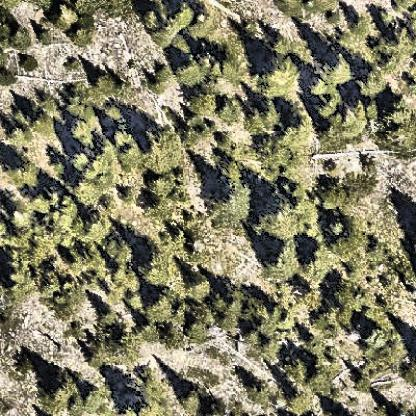tree-top: (259, 191, 316, 243), (251, 50, 302, 104), (356, 323, 410, 373), (139, 122, 188, 176), (264, 238, 307, 284), (153, 225, 194, 270), (171, 52, 214, 91), (316, 98, 352, 144), (141, 288, 180, 330), (241, 97, 284, 135), (317, 52, 357, 92), (189, 5, 226, 46), (38, 370, 76, 409), (316, 178, 355, 214), (353, 63, 390, 100), (211, 185, 249, 220), (333, 283, 368, 320), (80, 210, 116, 245), (82, 379, 116, 416), (210, 295, 244, 330), (278, 353, 312, 387), (65, 113, 100, 146), (146, 169, 182, 201), (142, 252, 174, 287), (246, 326, 278, 361), (312, 303, 340, 343), (185, 86, 219, 118), (380, 106, 408, 143), (49, 280, 84, 309), (90, 67, 121, 99), (0, 234, 32, 265), (103, 234, 135, 264), (253, 299, 281, 333), (117, 394, 160, 416), (184, 272, 214, 302), (29, 230, 59, 260), (216, 92, 244, 124), (255, 141, 287, 169), (111, 326, 140, 356), (157, 319, 187, 347), (86, 158, 112, 189), (176, 383, 203, 412), (148, 59, 174, 88), (11, 352, 39, 377), (57, 193, 82, 221), (6, 206, 37, 228), (138, 6, 164, 32), (9, 162, 36, 187), (54, 0, 78, 28), (111, 268, 141, 290), (28, 109, 53, 135), (116, 142, 141, 167), (6, 23, 32, 47), (271, 33, 298, 56), (70, 20, 92, 48), (88, 335, 112, 360), (184, 316, 209, 340), (346, 233, 370, 258), (377, 45, 401, 70), (68, 147, 90, 171), (7, 122, 29, 146), (326, 216, 350, 237), (98, 306, 122, 326), (154, 22, 175, 44), (247, 377, 267, 400), (173, 3, 194, 24), (105, 100, 126, 120), (38, 89, 58, 109), (32, 191, 52, 210), (113, 126, 133, 144), (37, 27, 56, 45), (11, 106, 27, 125), (352, 15, 365, 34)
